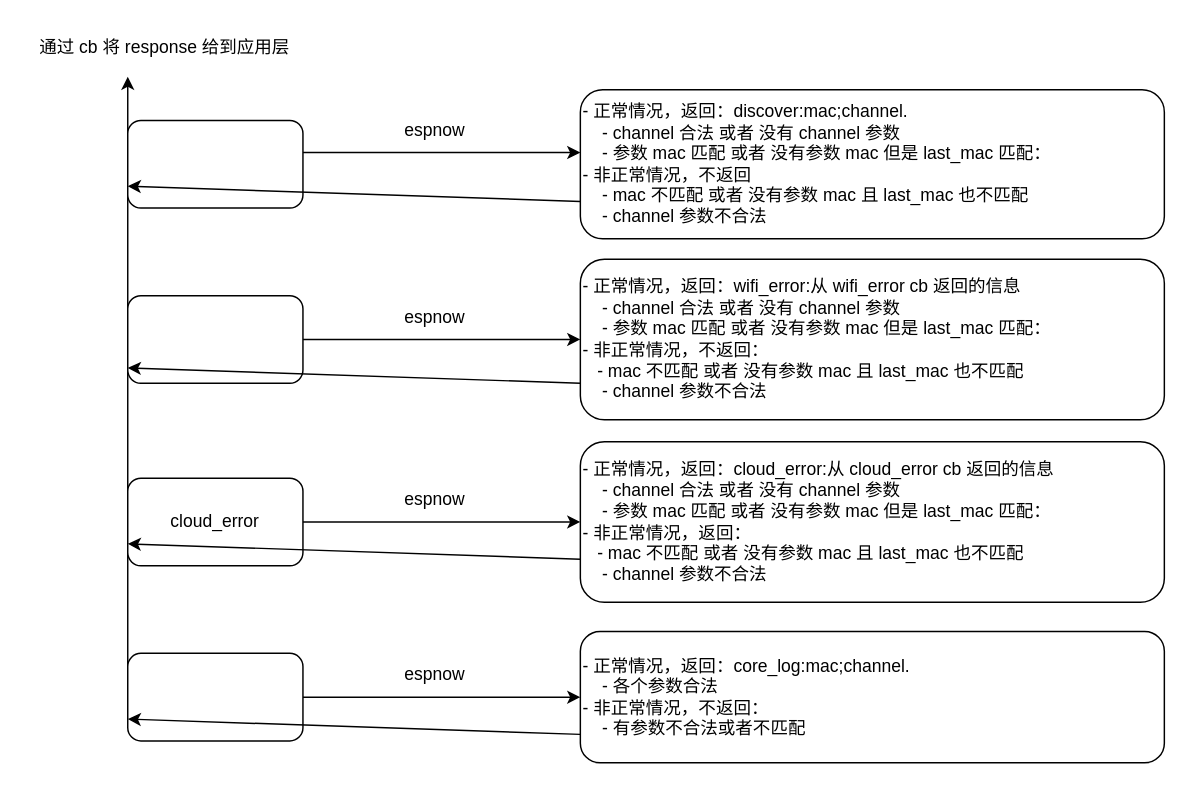
This 1190x788 diagram has some shape labels left out. The centre of each missing label's shape, as x and y in pixels:
"core_log" goes at point (214, 696).
"discover" goes at point (214, 163).
"wifi_error" goes at point (214, 338).
